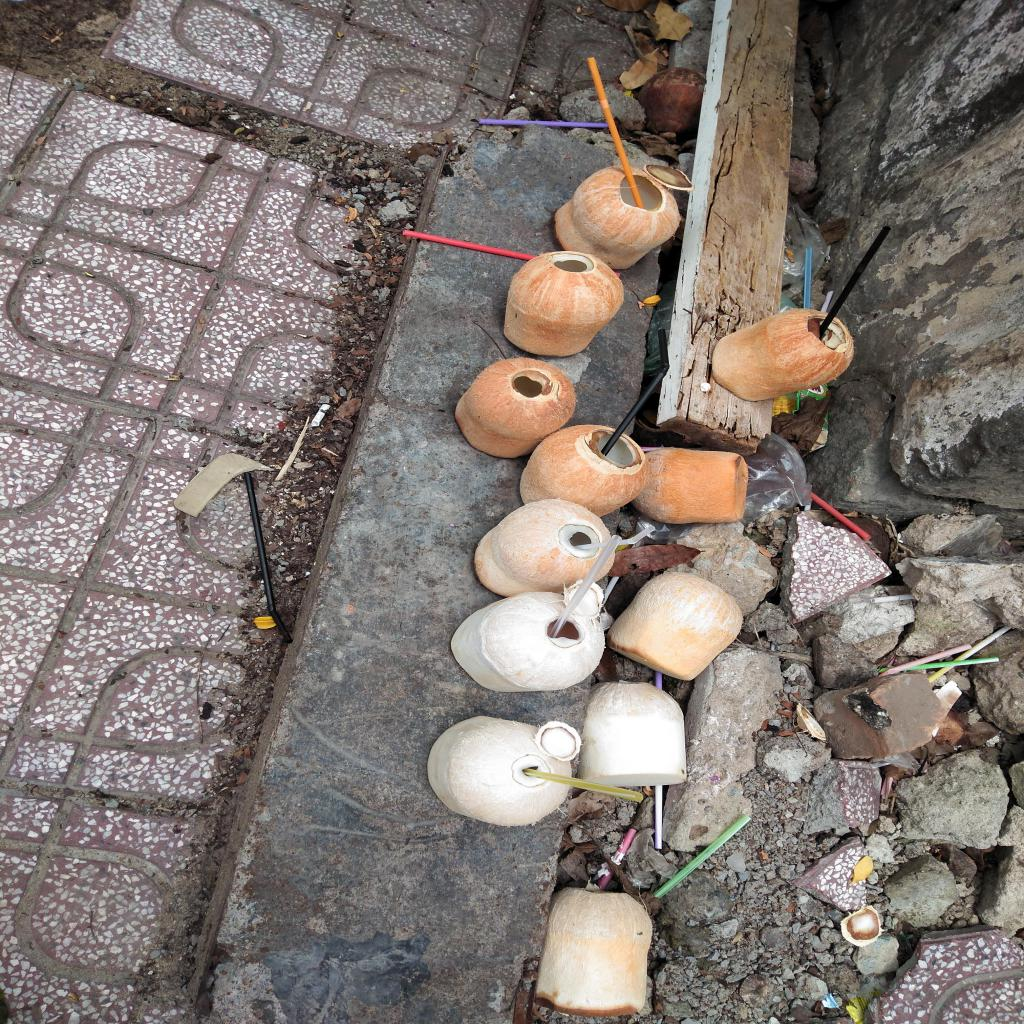Cigarette: (311, 405, 331, 426)
Other plastic: (848, 986, 884, 1024)
Other plastic wrapper: (255, 617, 275, 629)
Plastic film: (742, 432, 812, 522), (772, 390, 832, 458), (780, 202, 826, 288), (644, 279, 676, 376), (636, 514, 716, 544), (872, 753, 920, 770), (779, 292, 797, 312)
Plastic straw: (600, 329, 670, 457), (588, 58, 644, 208), (654, 815, 752, 899), (819, 226, 891, 340), (244, 474, 292, 644), (548, 536, 622, 638), (928, 626, 1012, 683), (403, 230, 538, 260), (523, 770, 643, 802), (874, 644, 972, 678), (811, 492, 871, 540), (597, 828, 637, 890), (575, 526, 655, 550), (904, 656, 998, 670), (480, 120, 608, 128), (803, 248, 812, 310), (603, 576, 619, 606), (655, 786, 662, 850), (870, 594, 914, 602), (820, 291, 834, 312), (641, 448, 703, 452), (881, 778, 894, 796), (654, 672, 662, 690), (878, 668, 894, 674)
Unlabeled litter: (174, 454, 276, 518), (821, 994, 837, 1008)
